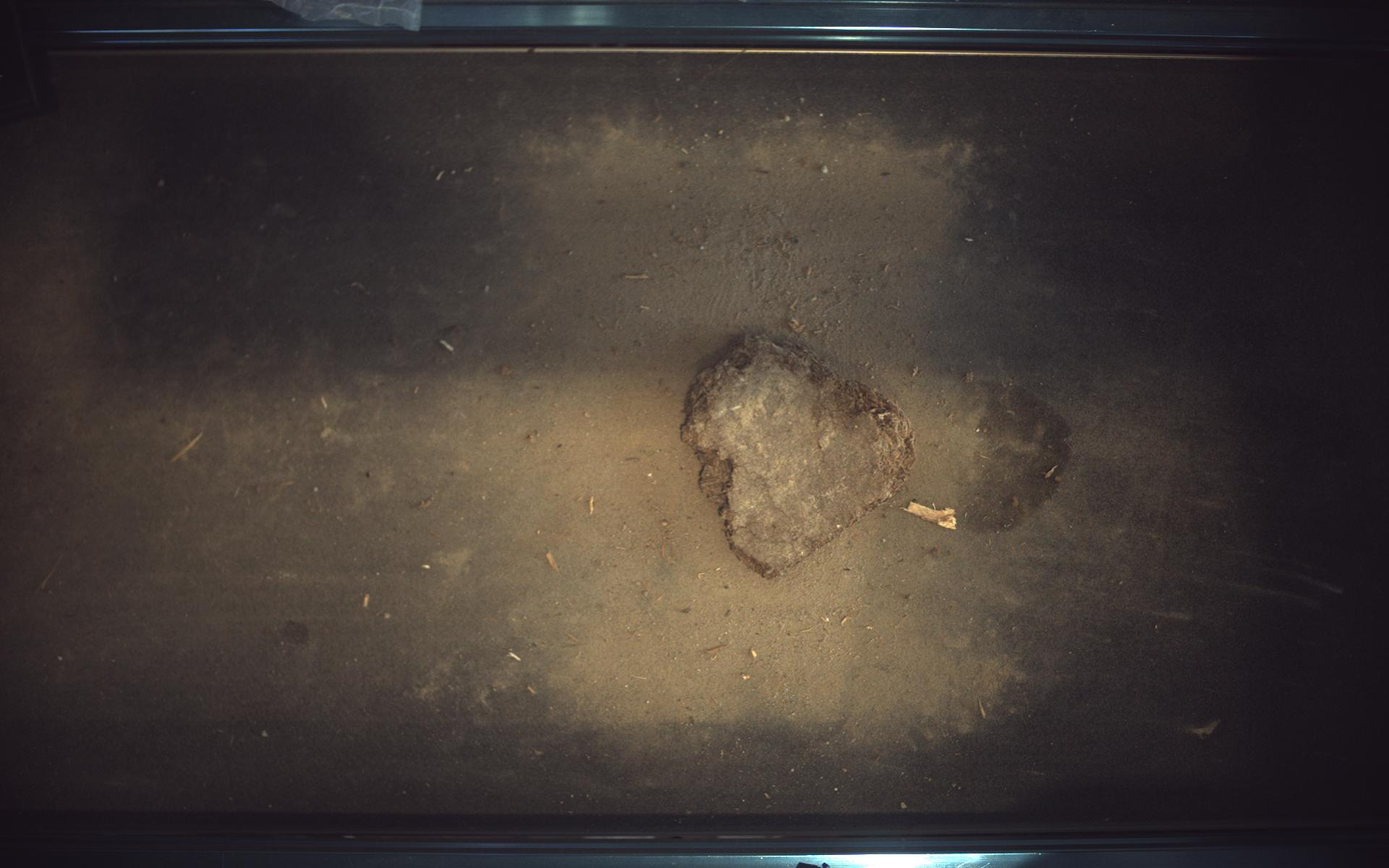wood: (681, 335, 917, 578)
